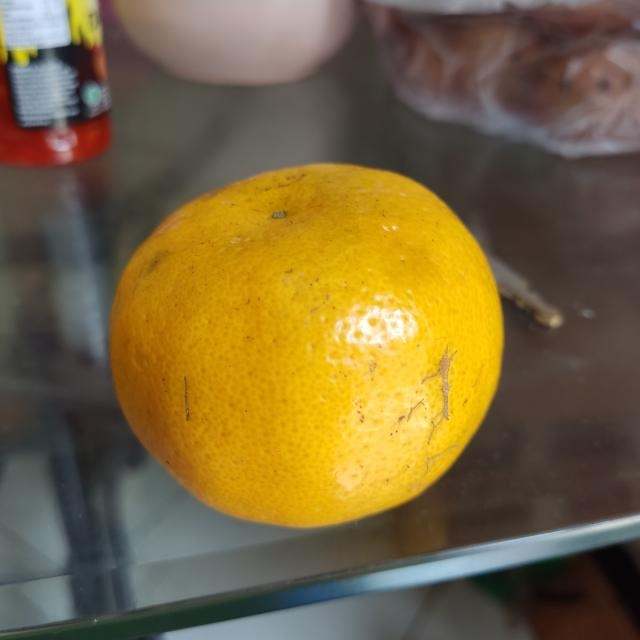agrume: (101, 161, 506, 530)
